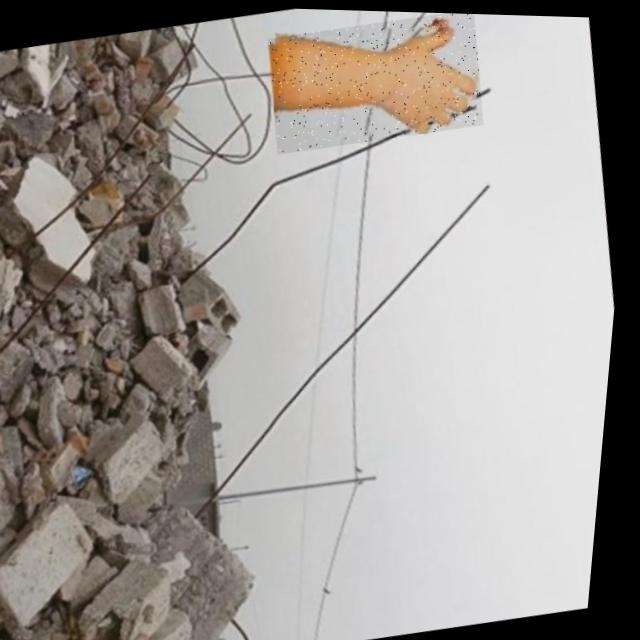Person in Rubble: (259, 6, 492, 156)
